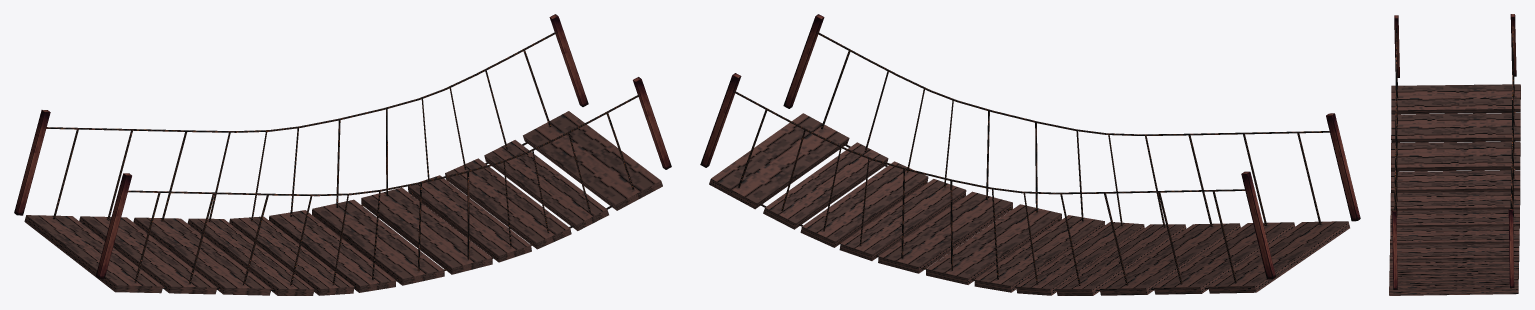
File: bridge1.glb
3 renders of one model, left to right at view 1: azimuth 30°, elevation 25°; view 2: azimuth 150°, elevation 25°; view 3: azimuth 270°, elevation 25°, orthographic. The views are drawn at different scales.
Parts seen in each view (by area): view 1: Cube.019; view 2: Cube.019; view 3: Cube.019.
Part boxes in pixels (left/top/right/bottom): Cube.019: left=14, top=14, right=671, bottom=295; Cube.019: left=700, top=14, right=1360, bottom=295; Cube.019: left=1389, top=14, right=1520, bottom=295.
Bounding box in the file's own units: 3.59 × 1.07 × 1.02.
Materials: 44 (44 with a texture image).
